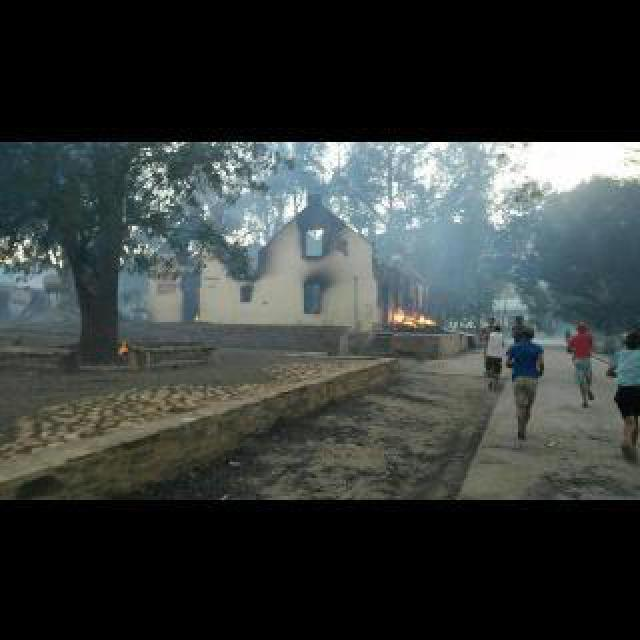Fire: (392, 310, 436, 324), (116, 334, 136, 358)
